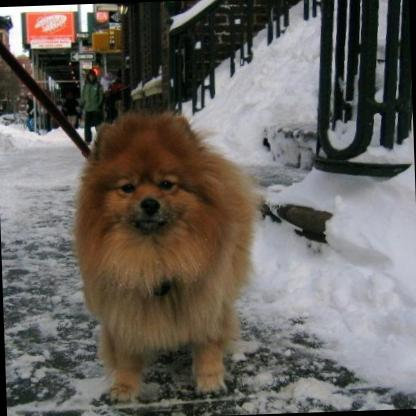Pomeranian: (68, 108, 256, 400)
